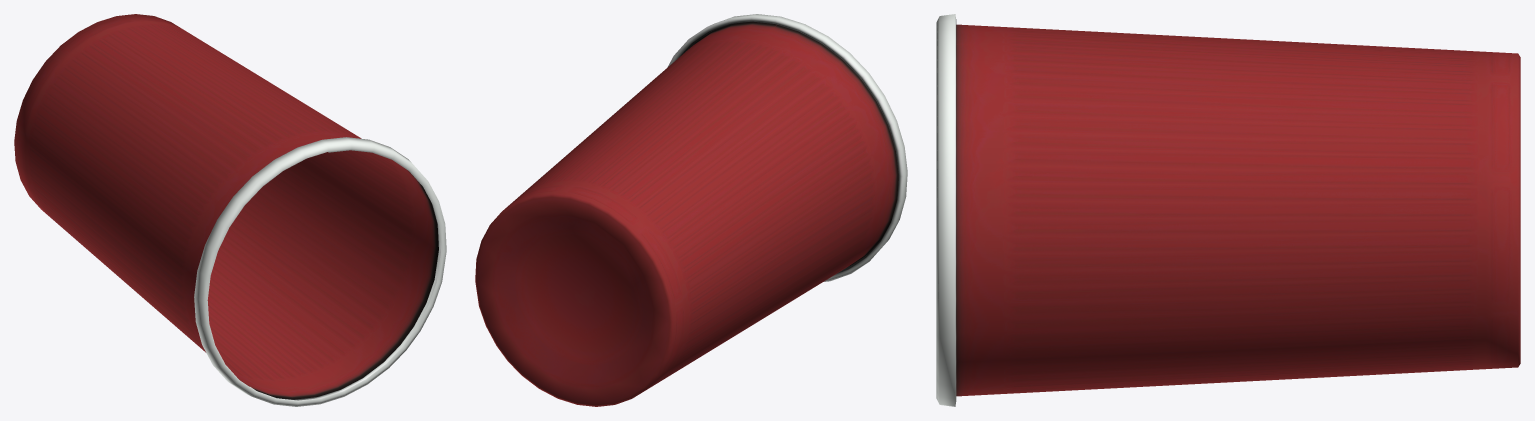
File: cup.fbx
3 views of the same model, side by side, from view 1: azimuth 30°, elevation 25°; view 2: azimuth 150°, elevation 25°; view 3: azimuth 270°, elevation 25° (orthographic). The views are drawn at different scales.
Parts seen in each view (by area): view 1: Plastic Cup; view 2: Plastic Cup; view 3: Plastic Cup.
Boxes of the visible parts, x1,y1,x2,y2 form: Plastic Cup: [14, 14, 446, 406]; Plastic Cup: [475, 14, 907, 406]; Plastic Cup: [936, 14, 1520, 406].
Bounding box in the file's own units: 154 × 154 × 229.
1 material, 1 textured.
